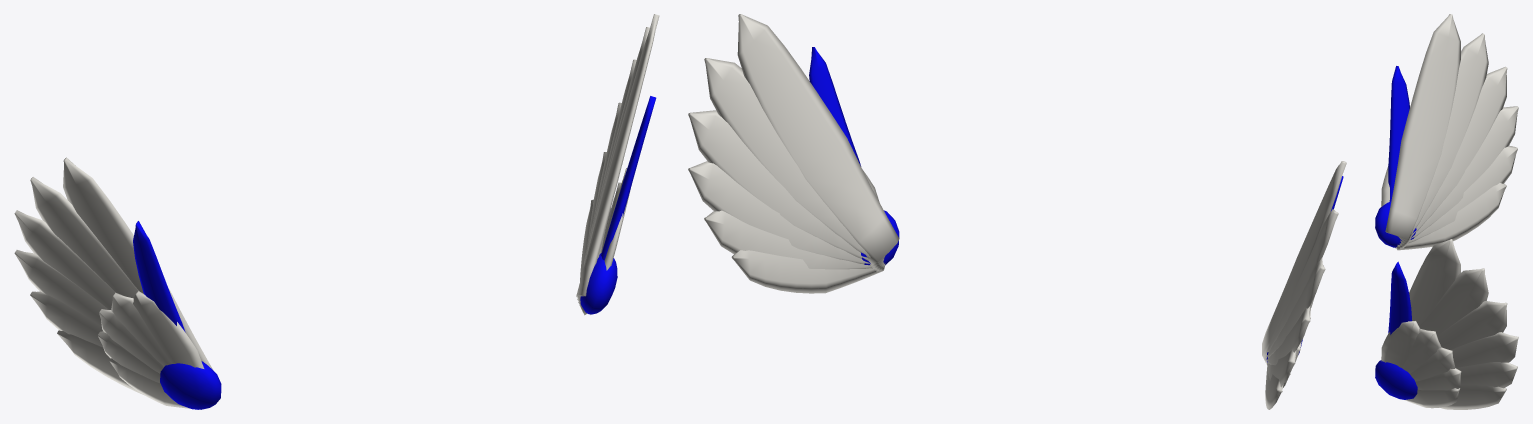
The model's file is hermes_wings.glb.
The picture shows the model from 3 angles, left to right: view 1: azimuth 30°, elevation 25°; view 2: azimuth 150°, elevation 25°; view 3: azimuth 270°, elevation 25°; orthographic projection. The views are drawn at different scales.
Visible parts, largest first — view 1: wing_right_mesh, wing_left_mesh; view 2: wing_left_mesh, wing_right_mesh; view 3: wing_right_mesh, wing_left_mesh.
Boxes of the visible parts, x1=… form: wing_right_mesh: x1=14, y1=157, x2=221, y2=409; wing_left_mesh: x1=576, y1=14, x2=659, y2=315; wing_left_mesh: x1=688, y1=14, x2=899, y2=293; wing_right_mesh: x1=1262, y1=161, x2=1346, y2=409; wing_right_mesh: x1=1375, y1=14, x2=1518, y2=250; wing_left_mesh: x1=1375, y1=239, x2=1518, y2=409.
Size of the model in its own units: 1.24 by 0.4876 by 0.3162.
